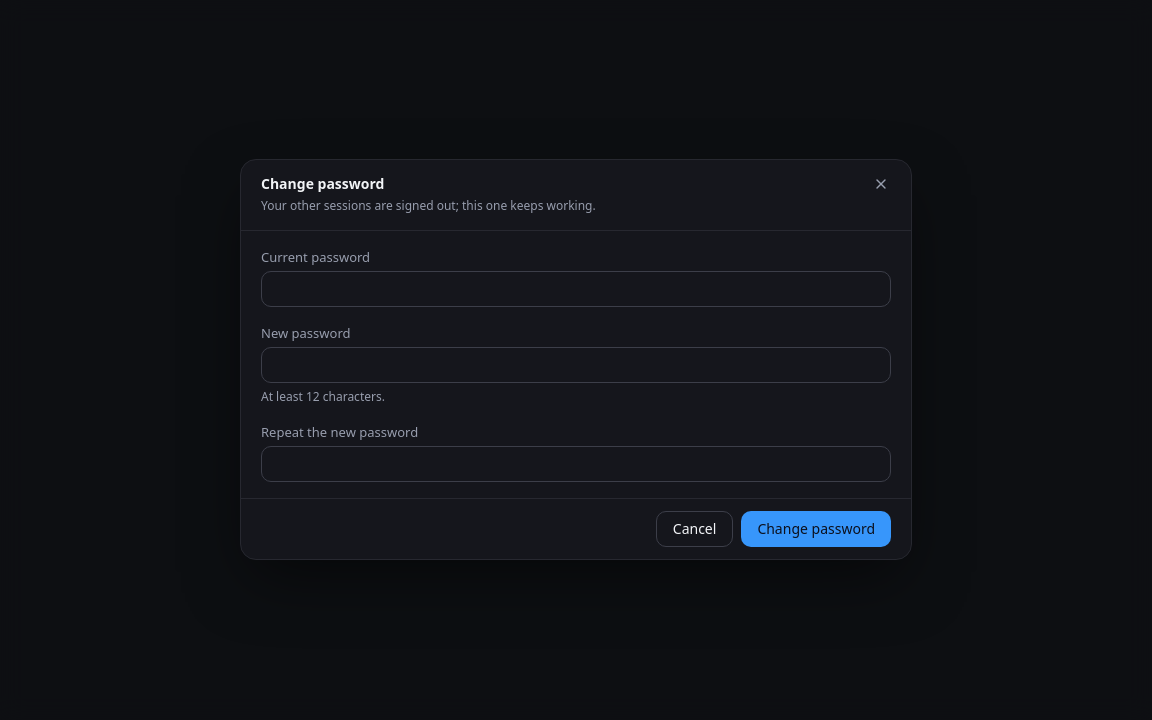
Scenario: ChangePasswordDialog › sends both passwords and says so when the current one is wrong
Type "wrong password!!" into the password field labelled "Current password".
click(576, 289); type("wrong password!!")  # box [261,271,891,307]
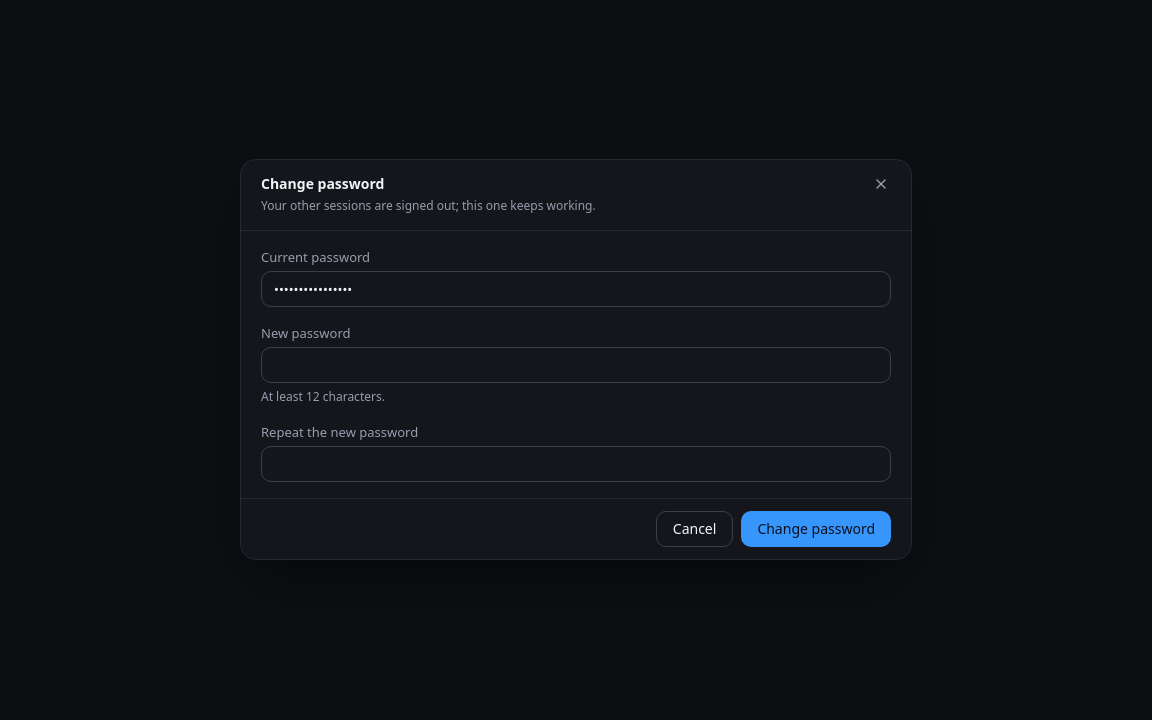
Type "a long enough secret" into the password field labelled "New password".
click(576, 365); type("a long enough secret")  # box [261,347,891,383]
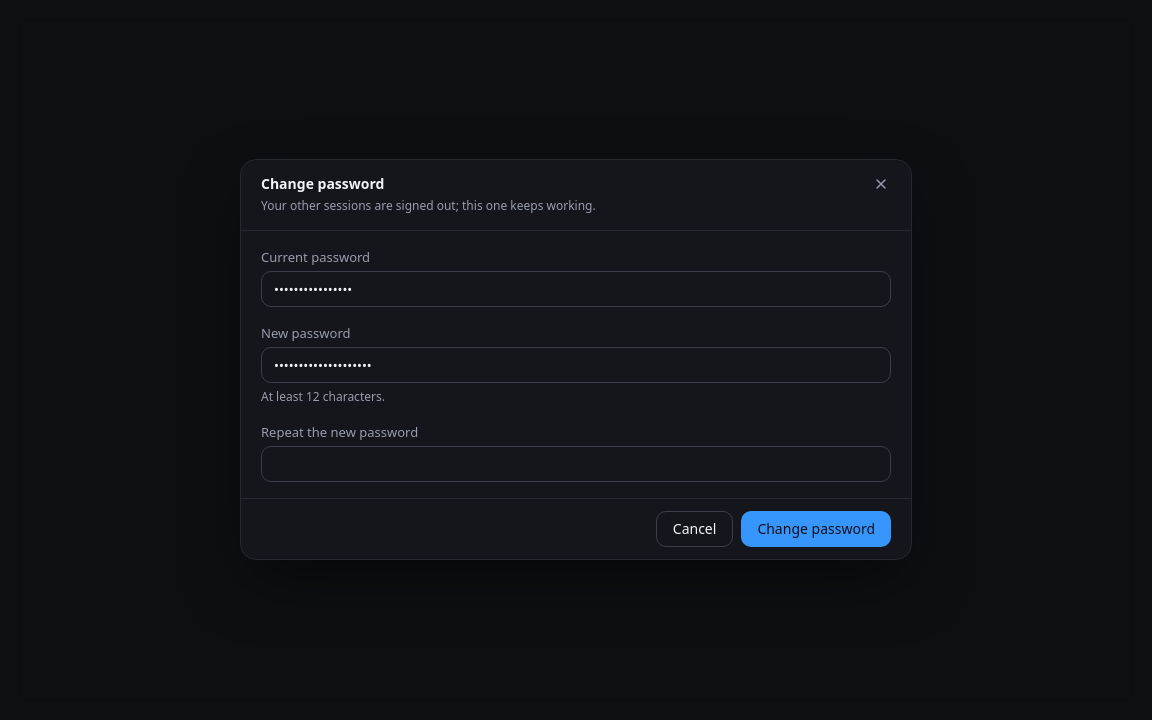
Type "a long enough secret" into the password field labelled "Repeat the new password".
click(576, 465); type("a long enough secret")  # box [261,447,891,483]
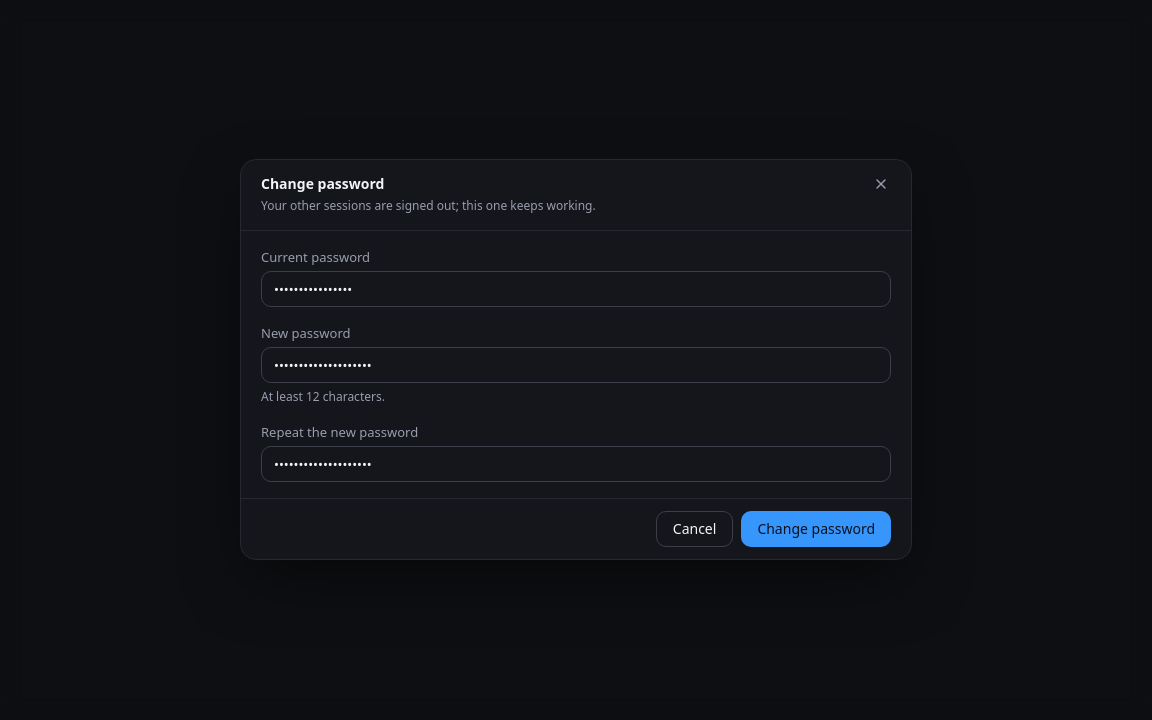
Click the button "Change password".
click(816, 530)  # box [741,512,891,548]
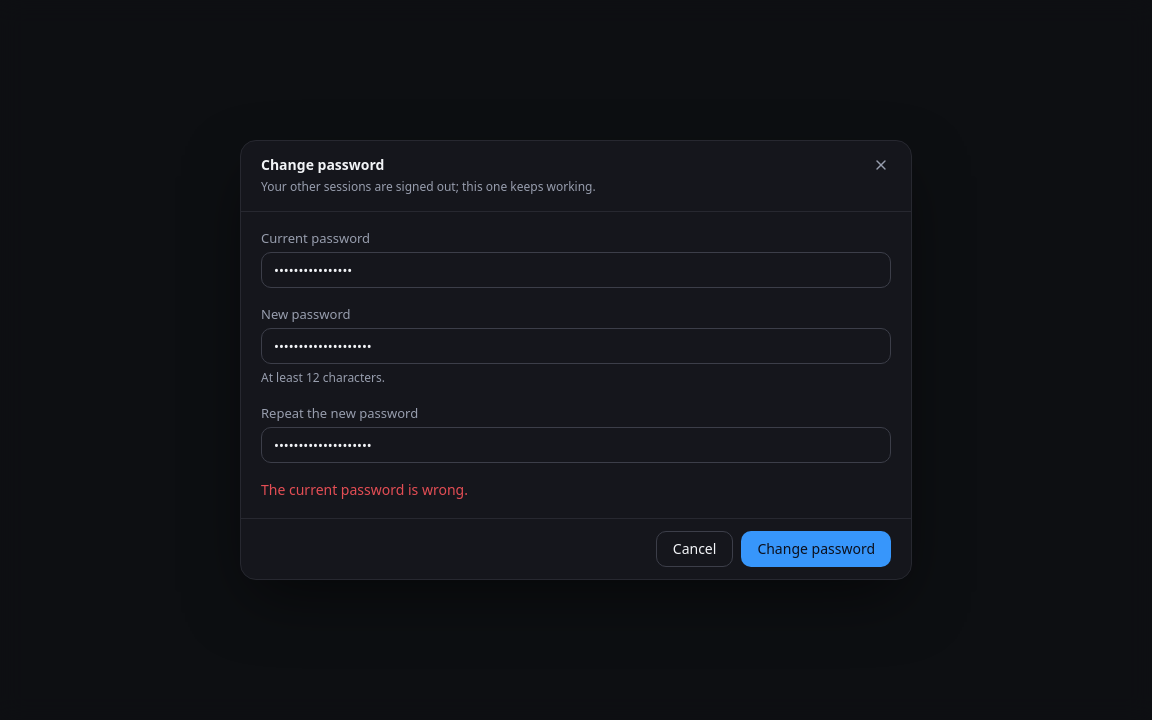
Check: the text "The current password is wrong." is shown, box [261,480,468,499]
